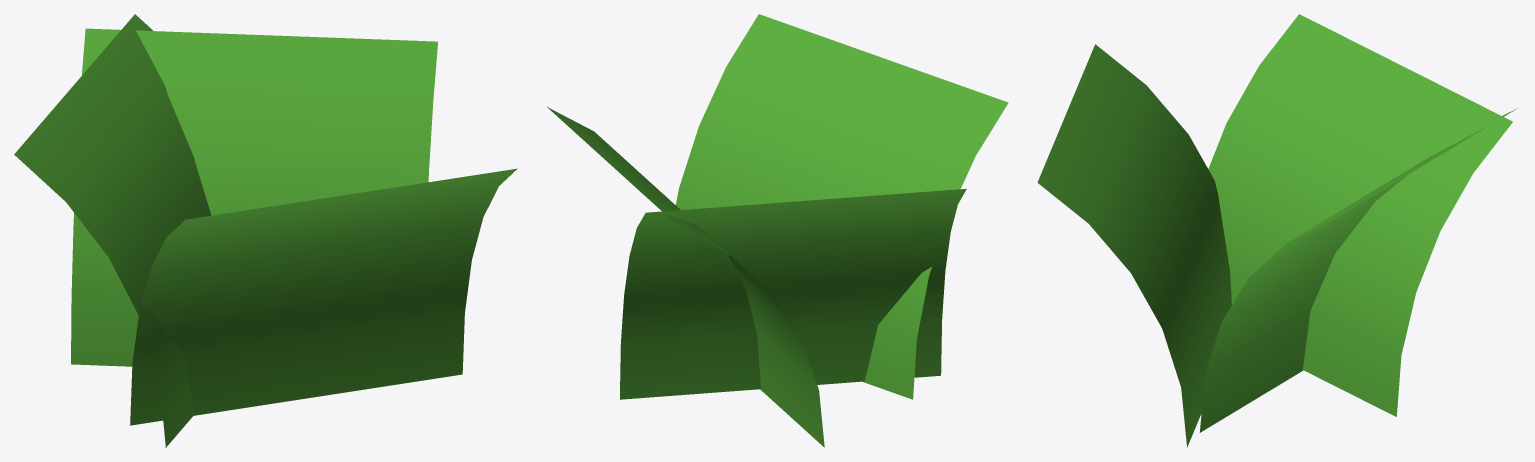
The model's file is SM_grass_patch_small.fbx.
3 views of the same model, side by side, from view 1: azimuth 30°, elevation 25°; view 2: azimuth 150°, elevation 25°; view 3: azimuth 270°, elevation 25° (orthographic). The views are drawn at different scales.
Parts seen in each view (by area): view 1: Plane141219; view 2: Plane141219; view 3: Plane141219.
Boxes of the visible parts, <box> form: Plane141219: <box>14,14,517,447</box>; Plane141219: <box>547,14,1008,447</box>; Plane141219: <box>1037,14,1517,447</box>.
Bounding box in the file's own units: 32.6 × 19.2 × 32.92.
